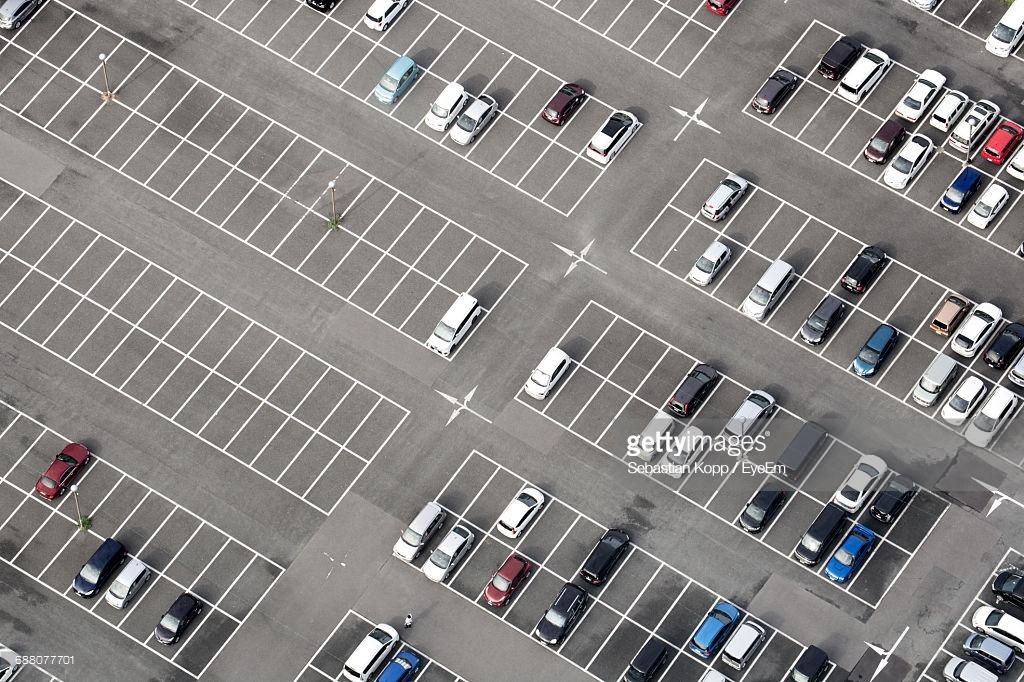car: (422, 280, 482, 365), (33, 418, 95, 500), (337, 599, 404, 674), (390, 490, 450, 570), (521, 332, 579, 412), (532, 575, 592, 652), (572, 522, 633, 596), (665, 351, 726, 425), (422, 514, 481, 588), (70, 523, 125, 602), (832, 437, 890, 511), (586, 97, 642, 172), (739, 466, 792, 545), (481, 545, 536, 620), (771, 410, 825, 481), (490, 469, 548, 534), (151, 587, 203, 657), (801, 496, 848, 573), (684, 591, 737, 659), (723, 383, 775, 452), (99, 547, 148, 619), (909, 345, 960, 414), (368, 41, 419, 109), (933, 364, 984, 432), (742, 247, 789, 320), (747, 56, 799, 121), (720, 609, 773, 672), (701, 163, 750, 231), (841, 41, 893, 105), (964, 381, 1016, 445), (851, 320, 899, 388), (542, 60, 587, 130), (690, 230, 735, 300), (842, 234, 889, 301), (806, 23, 857, 84), (824, 520, 871, 585), (802, 288, 843, 361), (954, 89, 998, 157), (871, 110, 915, 176), (454, 88, 500, 150), (429, 69, 466, 144), (896, 58, 938, 123), (977, 312, 1022, 372), (924, 288, 969, 345), (942, 154, 982, 209), (960, 298, 997, 357), (967, 179, 1007, 232)
empty space: (252, 413, 317, 485)
